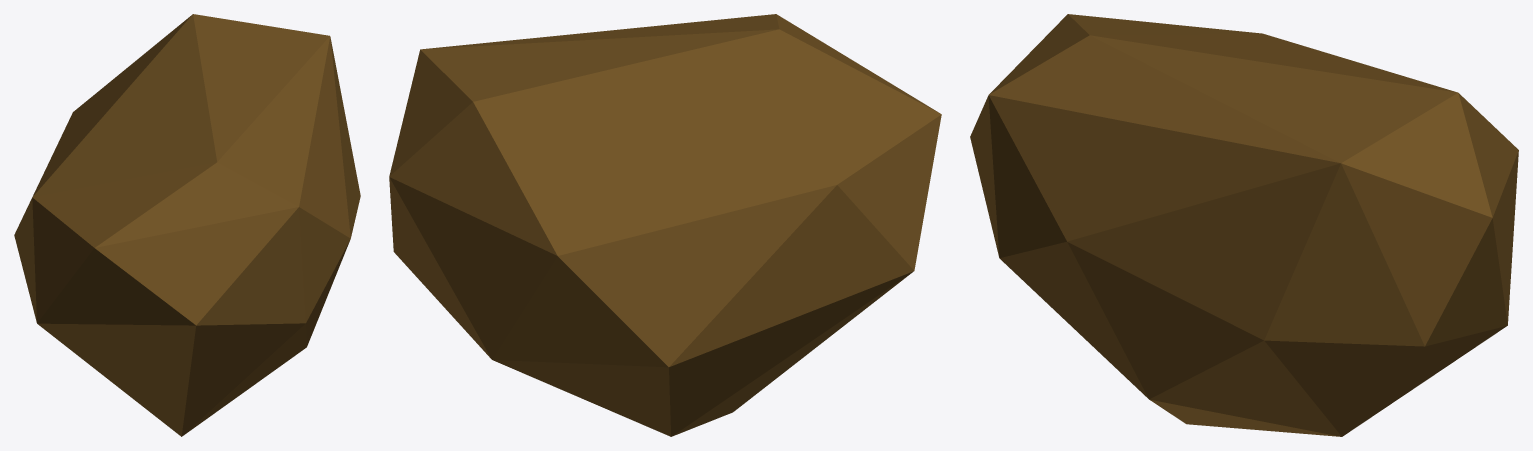
File: SmallPotato.glb
3 renders of one model, left to right at view 1: azimuth 30°, elevation 25°; view 2: azimuth 150°, elevation 25°; view 3: azimuth 270°, elevation 25°, orthographic. The views are drawn at different scales.
Visible parts, largest first — view 1: SmallPotato; view 2: SmallPotato; view 3: SmallPotato.
Boxes of the visible parts, x1=… form: SmallPotato: x1=14, y1=14, x2=360, y2=436; SmallPotato: x1=389, y1=14, x2=941, y2=436; SmallPotato: x1=970, y1=14, x2=1518, y2=436.
Size of the model in its own units: 0.1015 by 0.0853 by 0.1047.
